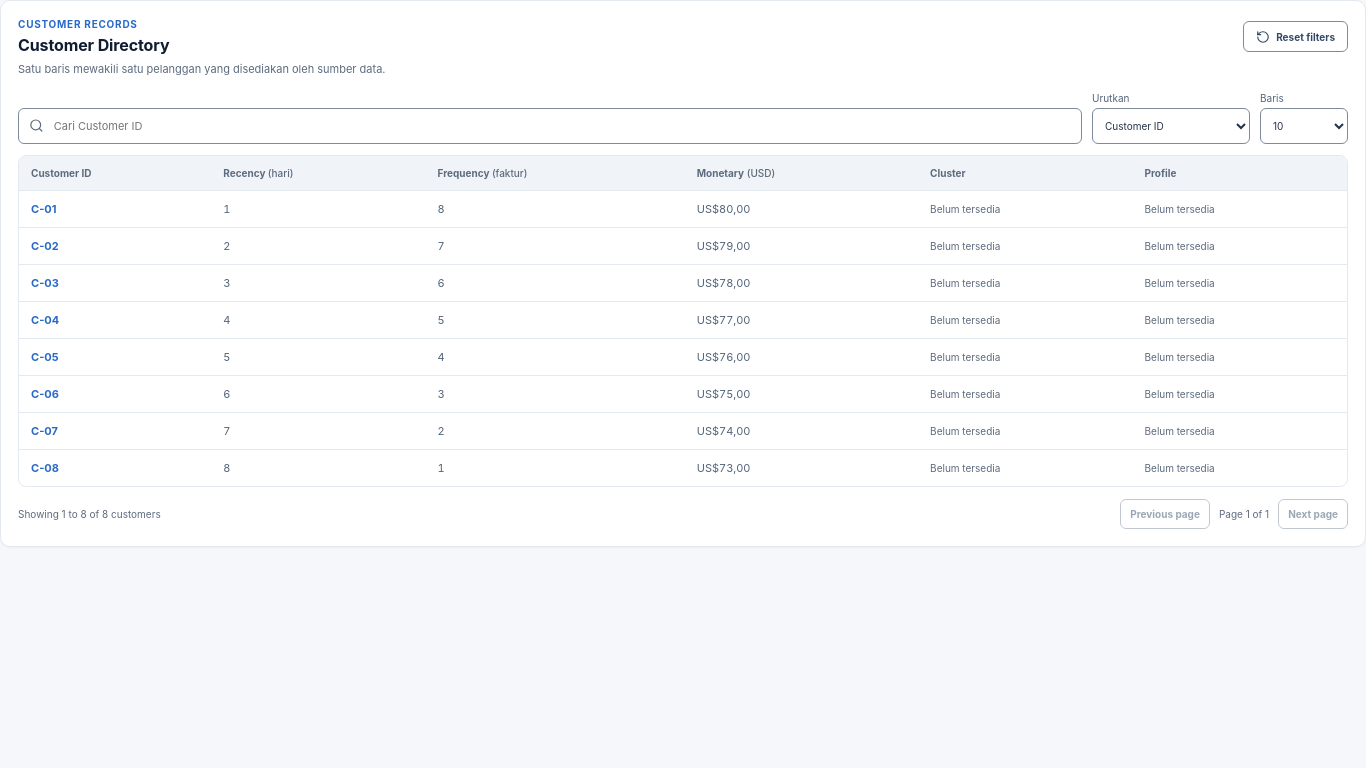
it: CustomerDirectory › searches string IDs, sorts, paginates, and resets presentation filters
The image size is (1366, 768).
Step 1. Type "C-08" into the search field named "Search customers" → (561, 126), box left=52, top=109, right=1071, bottom=143
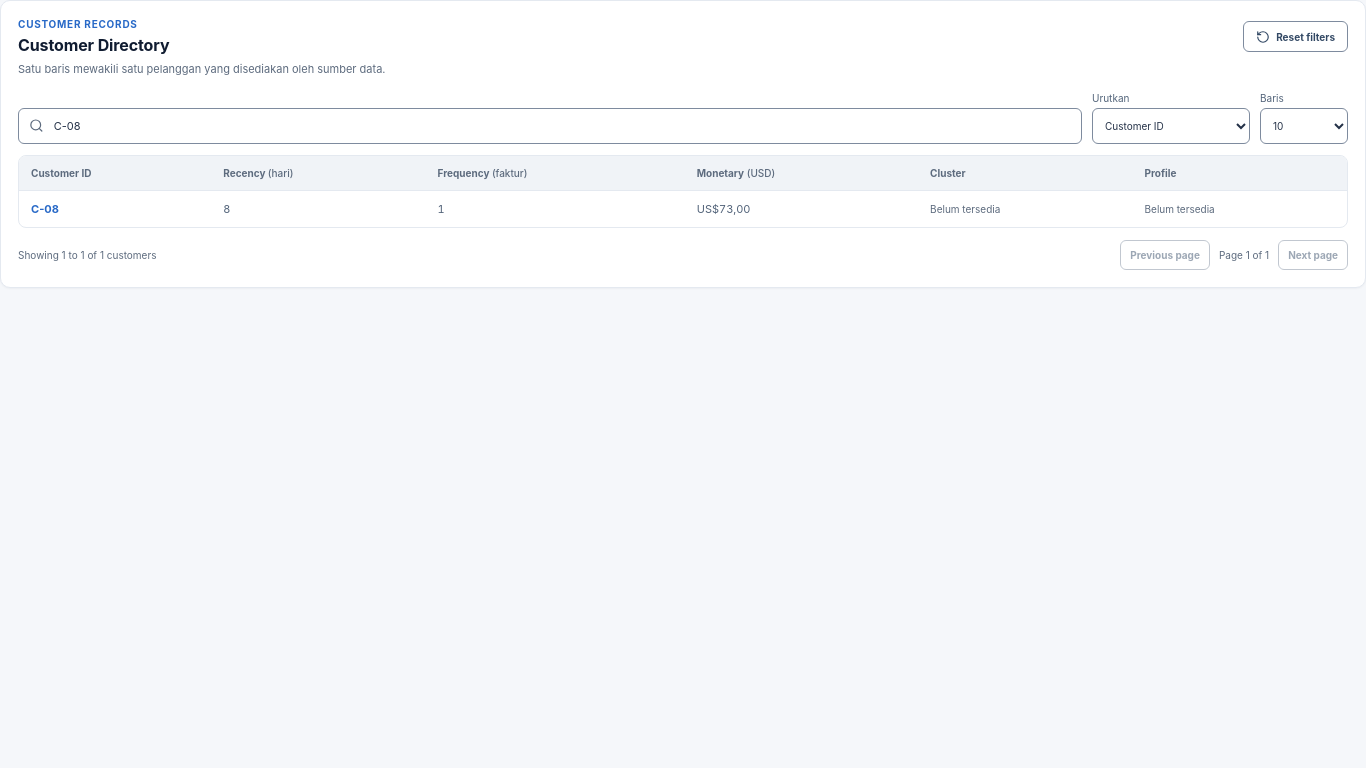
Check: the button "C-08" is shown, box left=31, top=202, right=59, bottom=216
Check: the button "C-01" is gone
Step 2. Clear the search field named "Search customers" → (561, 126), box left=52, top=109, right=1071, bottom=143
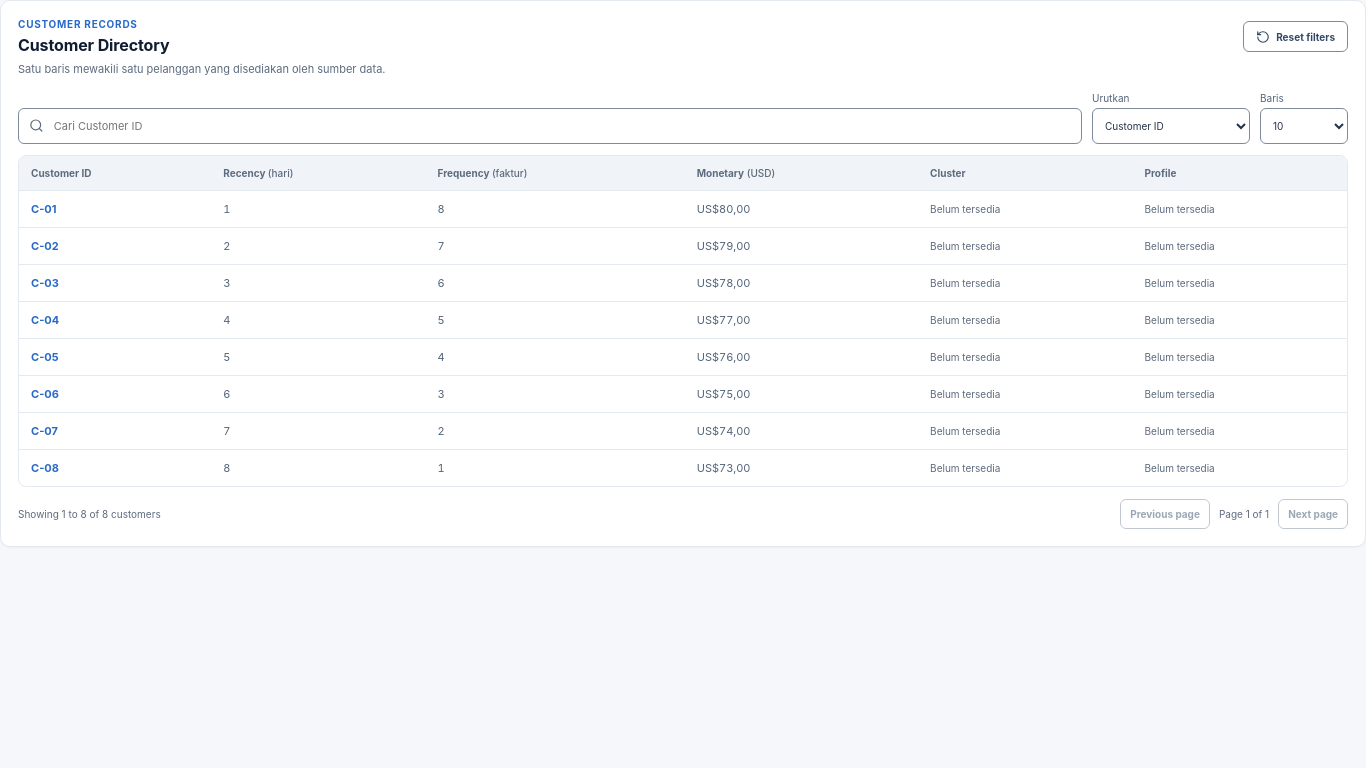
Step 3. Select "Recency" in the dropdown named "Sort customers by" → (1171, 126), box left=1092, top=108, right=1250, bottom=144
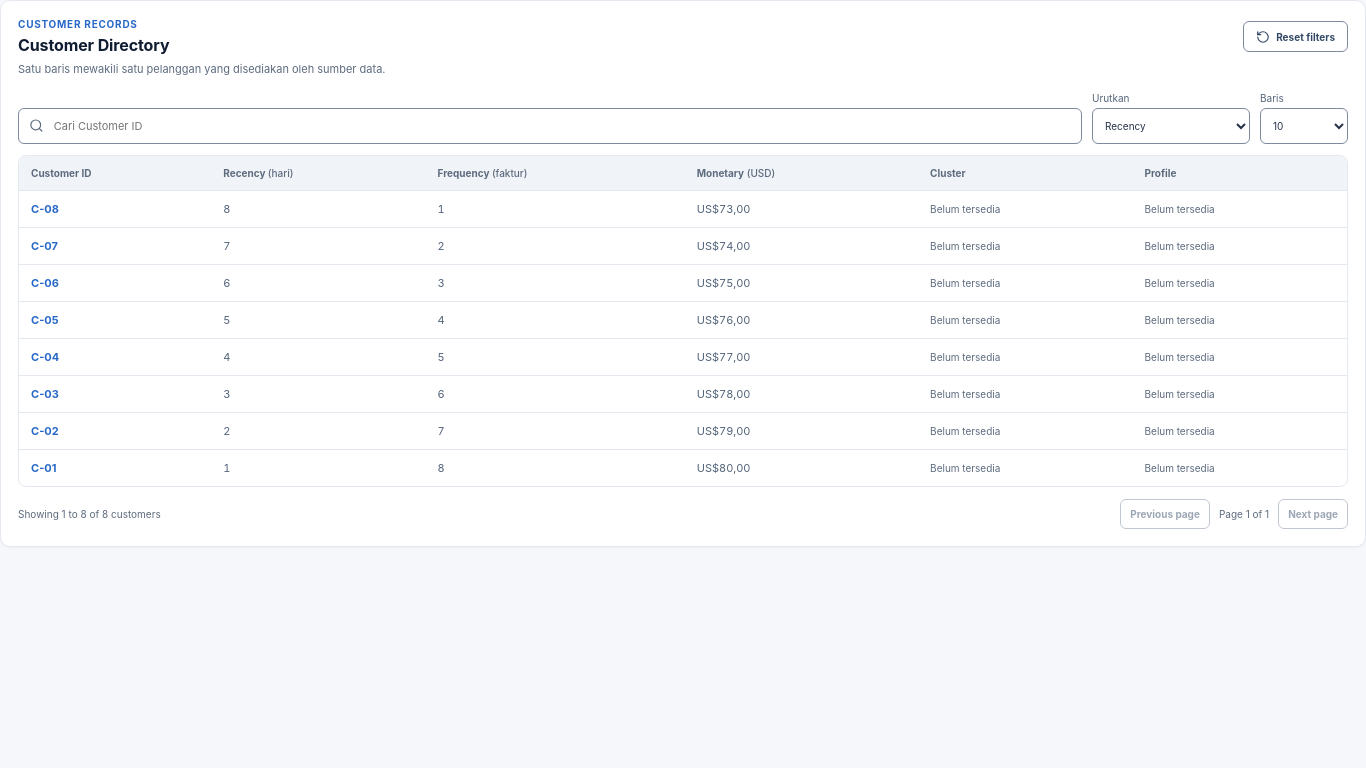
Check: the row "C-08 8 1 US$73,00 Belum tersedia Belum tersedia" is shown, box left=19, top=190, right=1347, bottom=227
Step 4. Select "5" in the dropdown named "Rows per page" → (1304, 126), box left=1260, top=108, right=1348, bottom=144
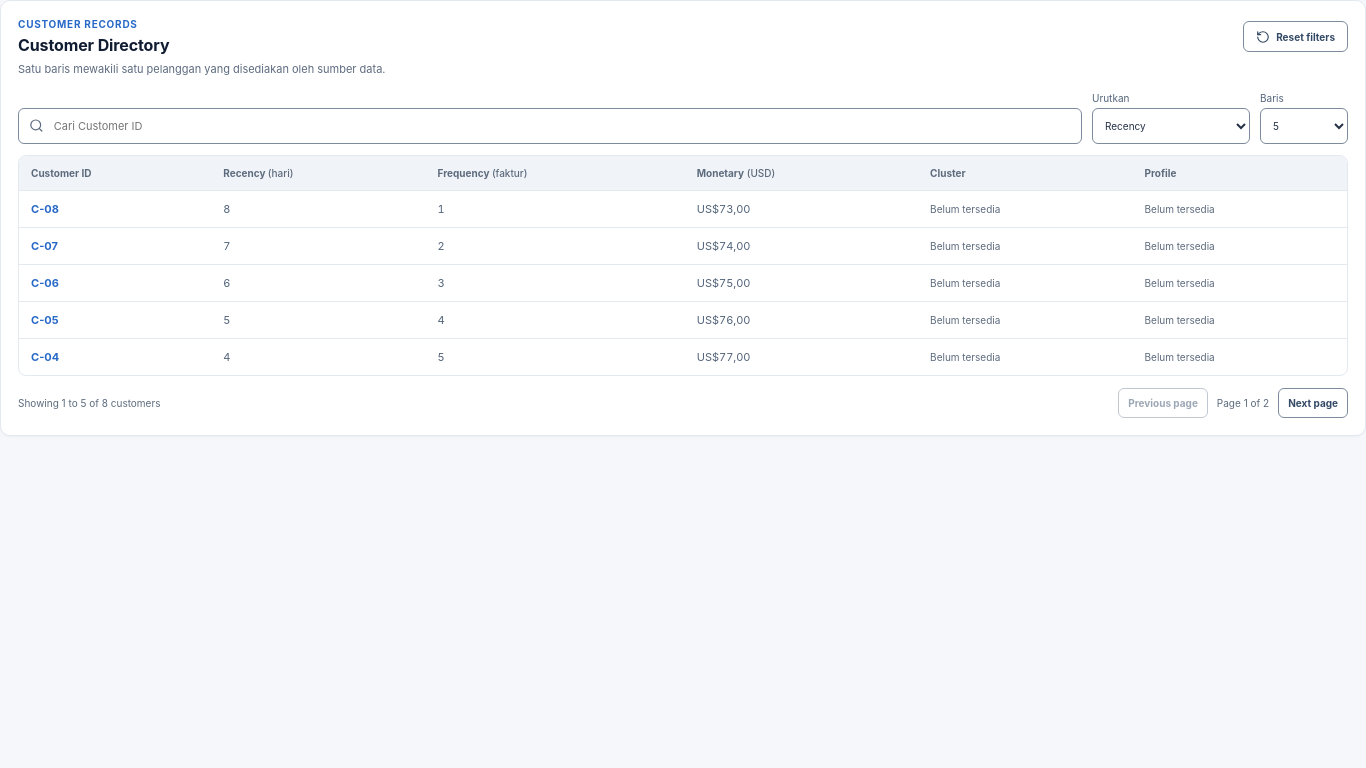
Check: the text "Showing 1 to 5 of 8 customers" is shown, box left=18, top=397, right=160, bottom=409
Step 5. Click the button "Next page" → click(1313, 403), box left=1278, top=388, right=1348, bottom=418
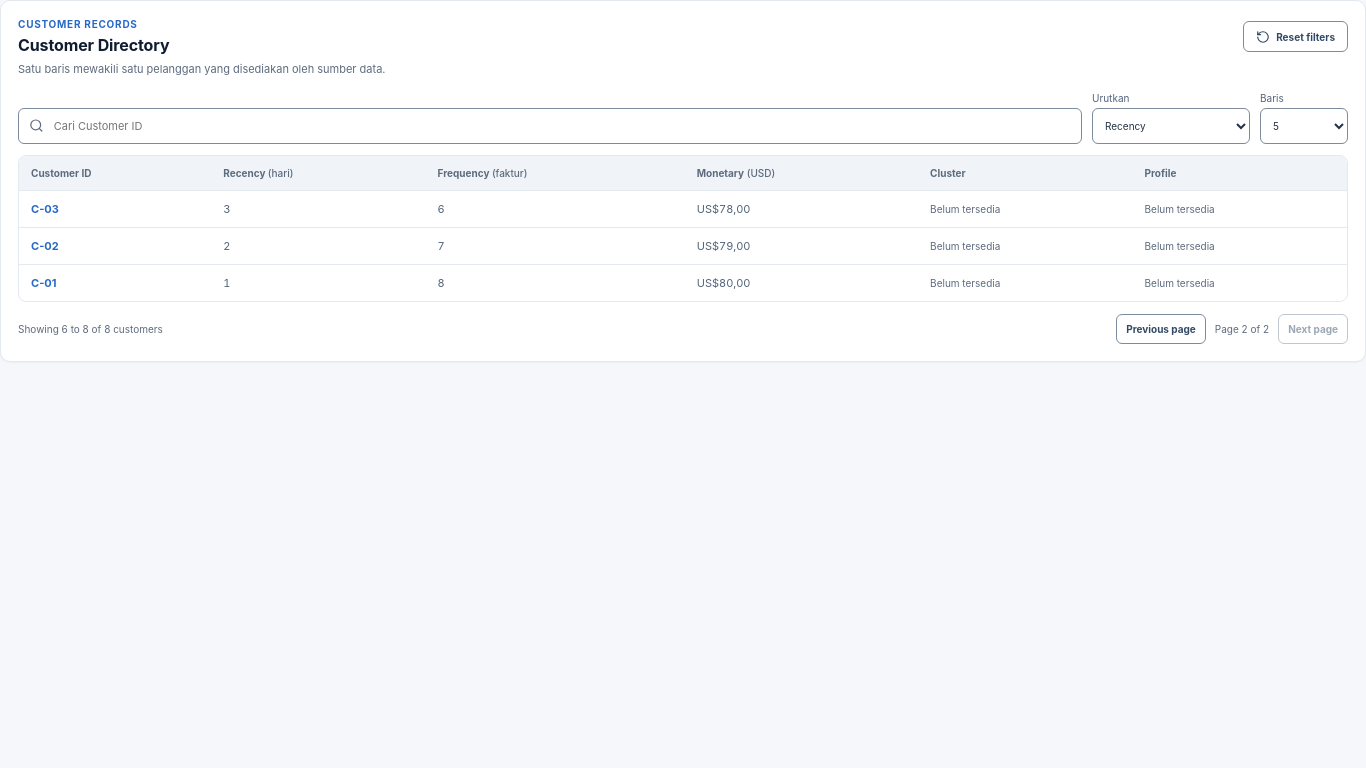
Check: the text "Showing 6 to 8 of 8 customers" is shown, box left=18, top=323, right=163, bottom=335
Step 6. Click the button "Reset filters" → click(1296, 36), box left=1243, top=21, right=1348, bottom=52
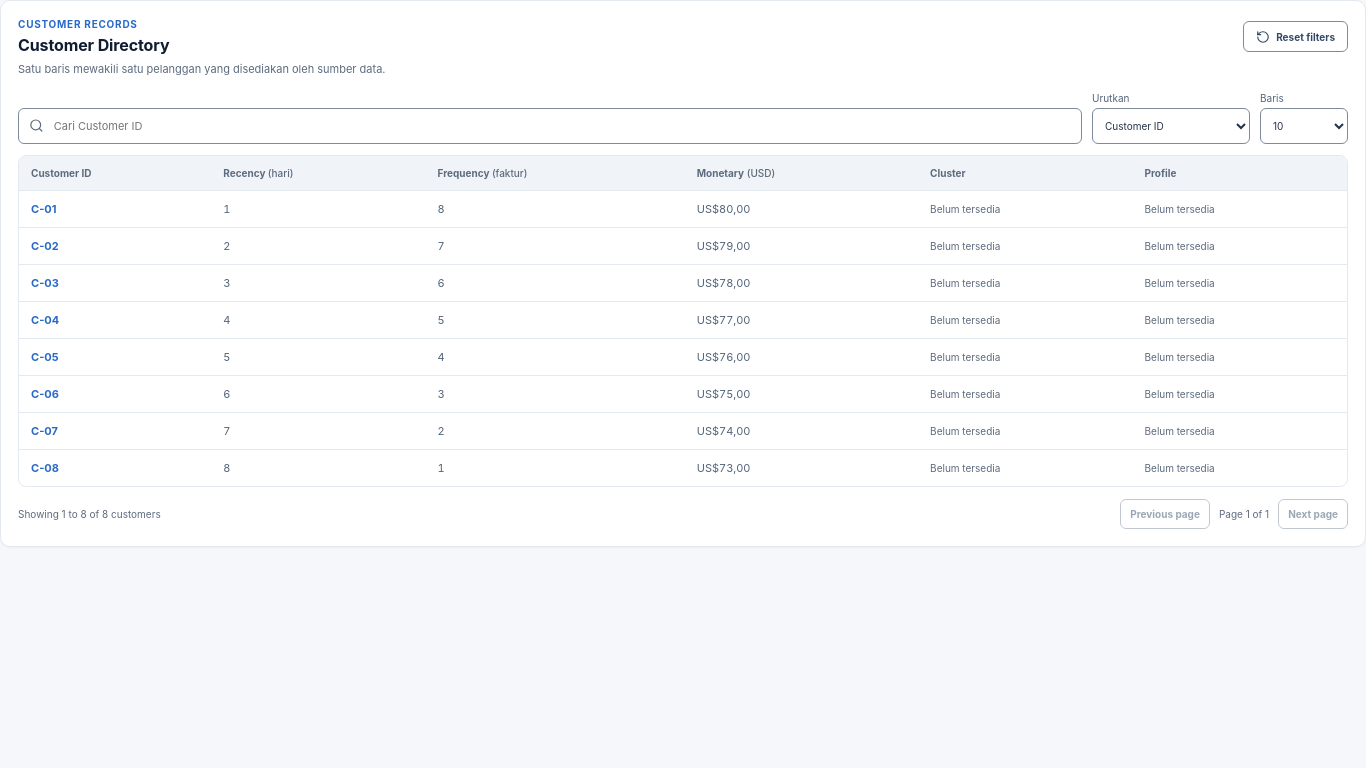
Check: the text "Showing 1 to 8 of 8 customers" is shown, box left=18, top=508, right=161, bottom=520
